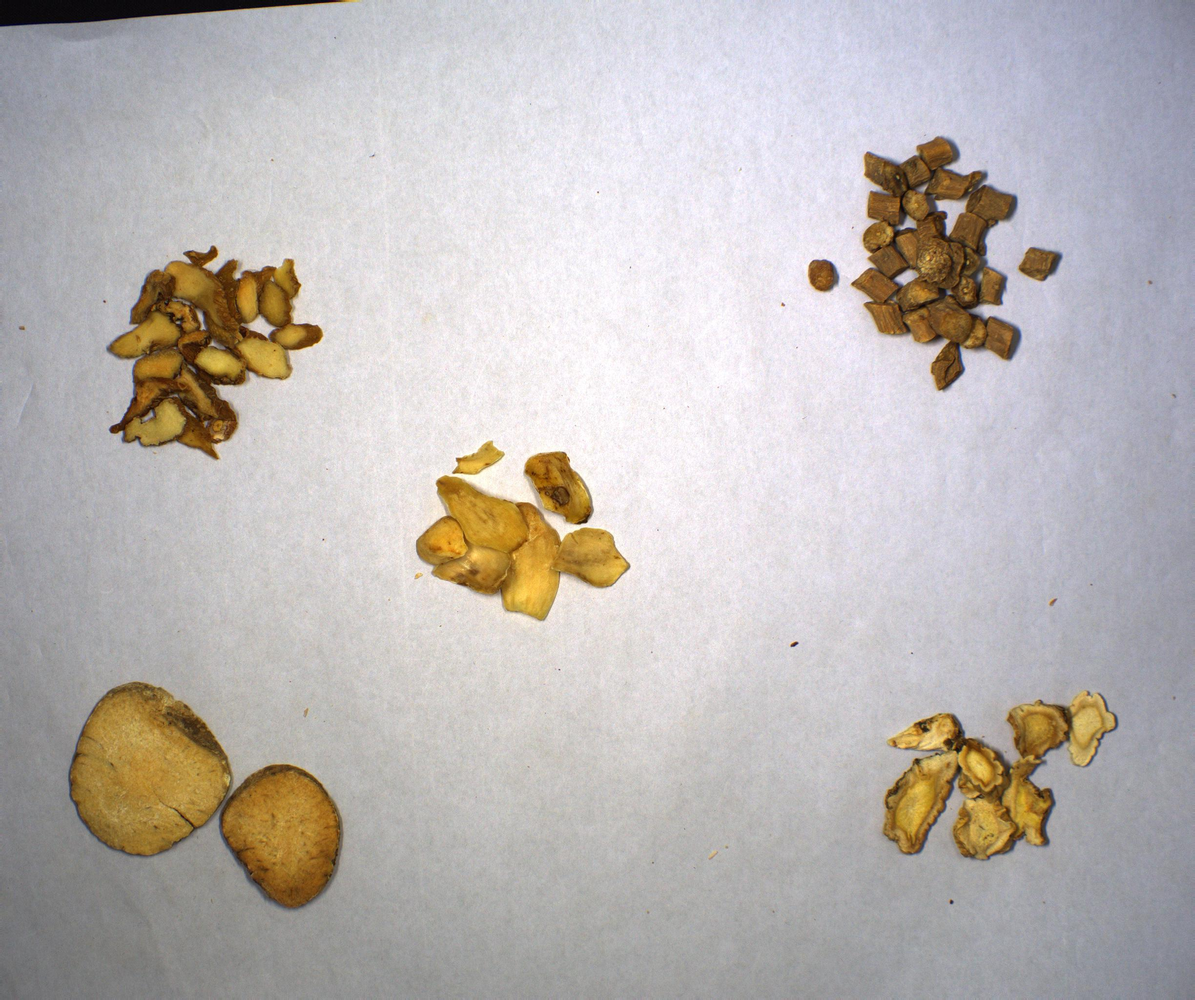baihe: (415, 435, 632, 624)
jiegeng: (871, 690, 1120, 858)
niuxi: (804, 128, 1071, 394)
yuzhu: (99, 241, 326, 464)
zexie: (73, 685, 344, 906)
